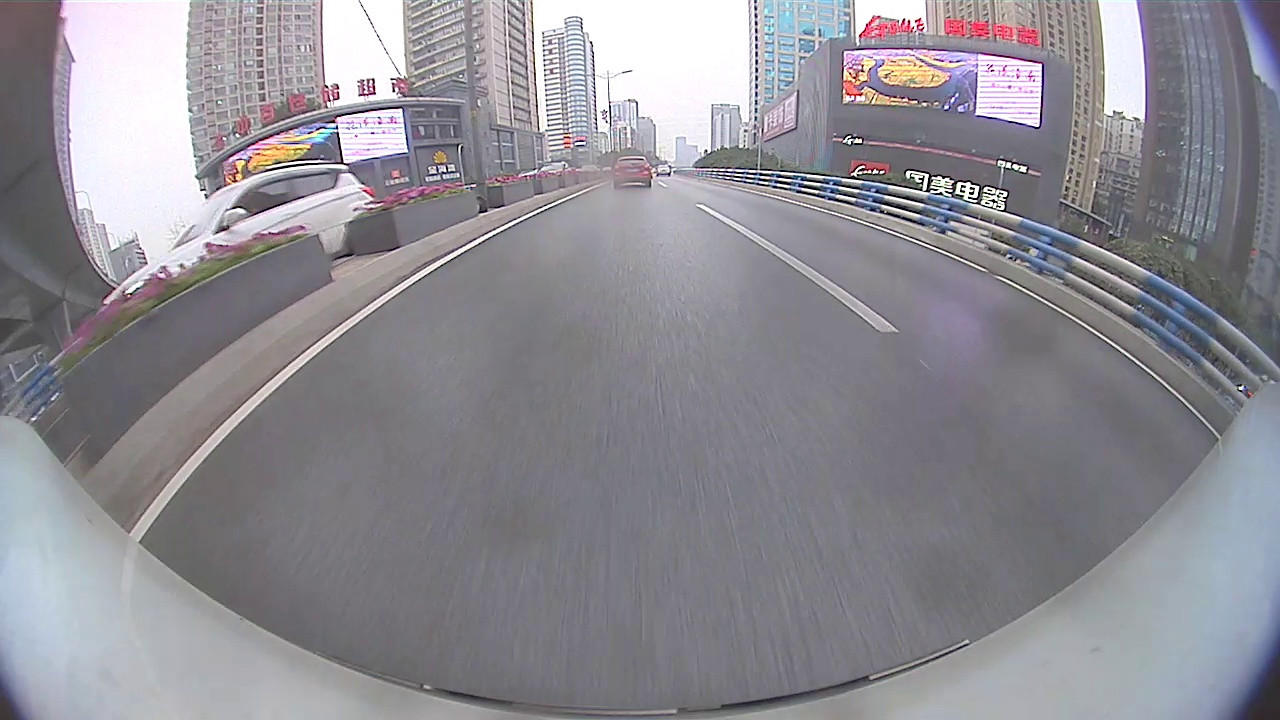car: (90, 158, 379, 322), (609, 152, 653, 189), (656, 158, 677, 179)
